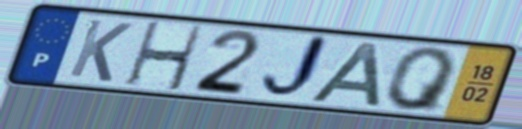2: (193, 28, 265, 99)
A: (305, 39, 385, 110)
H: (123, 20, 207, 94)
J: (257, 32, 334, 103)
K: (64, 16, 136, 85)
Q: (384, 46, 460, 114)
